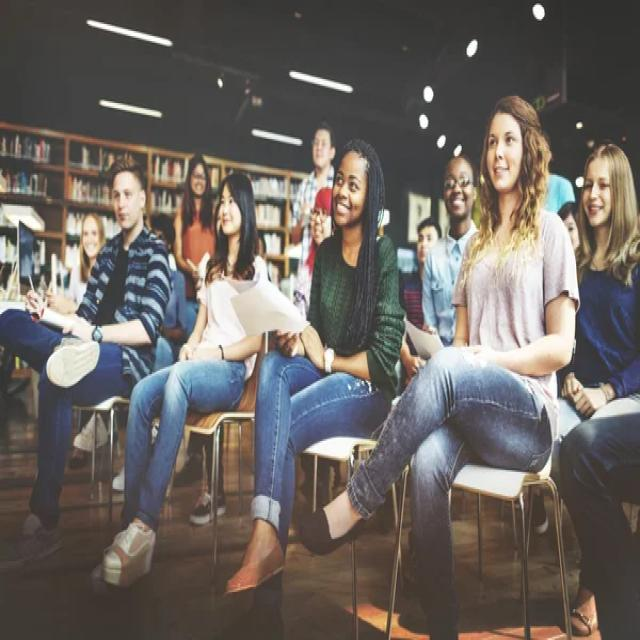Attentive: (485, 112, 528, 192), (331, 150, 369, 225), (582, 156, 618, 228), (444, 156, 477, 216), (113, 177, 144, 229), (216, 183, 246, 234)
